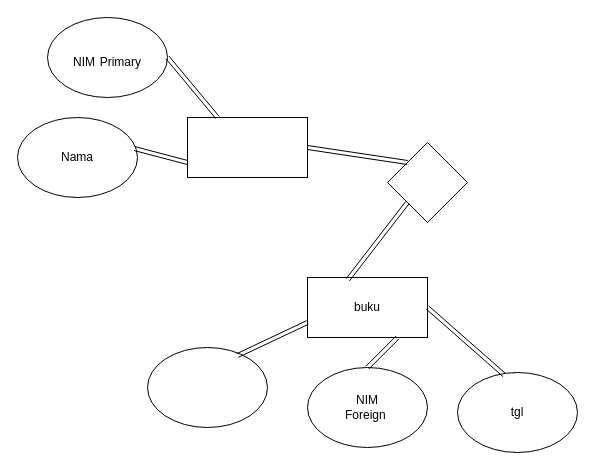
The diagram is 595 pixels wide and 470 high, and some of its shapes have lost their labels. Here are the shapes that lost their labels. From the top down, the centre of each, then its label:
At pixel 247 147: "mahasiswa".
At pixel 427 182: "pinjam".
At pixel 207 387: "id_buku prmary".
